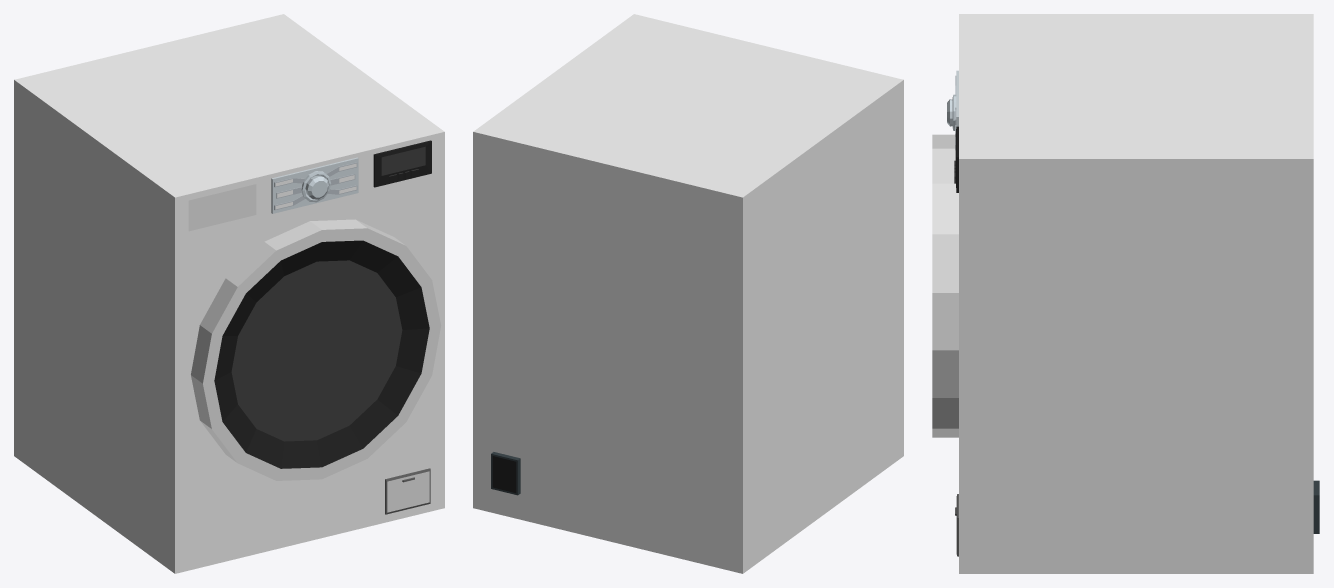
The model's file is KA-F600_Dryer_V1.fbx.
3 views of the same model, side by side, from view 1: azimuth 30°, elevation 25°; view 2: azimuth 150°, elevation 25°; view 3: azimuth 270°, elevation 25° (orthographic). The views are drawn at different scales.
Parts seen in each view (by area): view 1: KA-F600_Dryer_V1, KA-F600_Dryer_V1_Door, KA-F600_Dryer_V1_Knob; view 2: KA-F600_Dryer_V1; view 3: KA-F600_Dryer_V1, KA-F600_Dryer_V1_Door.
Part boxes in pixels (x1,y1,x2,y2): KA-F600_Dryer_V1: (14,14,444,573); KA-F600_Dryer_V1_Door: (191,219,441,480); KA-F600_Dryer_V1_Knob: (301,171,331,202); KA-F600_Dryer_V1: (473,14,903,573); KA-F600_Dryer_V1: (954,14,1319,573); KA-F600_Dryer_V1_Door: (932,134,958,437).
Bounding box in the file's own units: 60 × 80 × 67.72.
